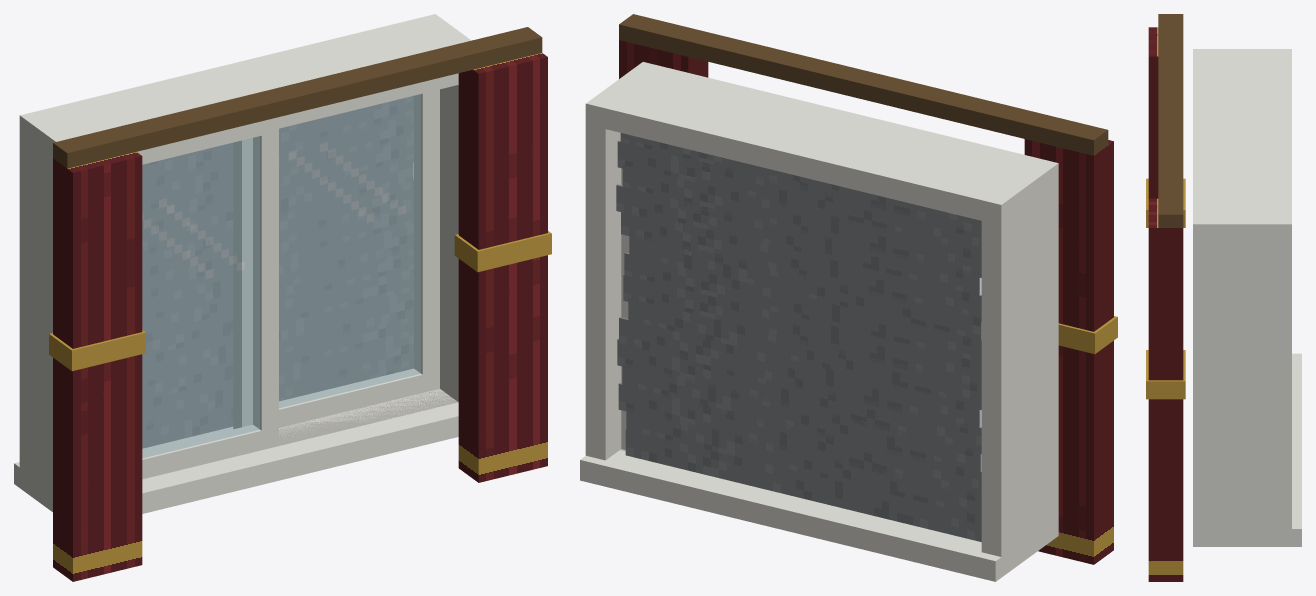
The model's file is t_window_domestic_taped.glb.
3 renders of one model, left to right at view 1: azimuth 30°, elevation 25°; view 2: azimuth 150°, elevation 25°; view 3: azimuth 270°, elevation 25°, orthographic. The views are drawn at different scales.
Parts seen in each view (by area): view 1: block_fixed-glass, block_curtain-1, block_curtain1, block_slider-glass, block_lintel, block_rod, block_sill, block_stile-1, block_slider-r, block_fixed-r, block_stile1, block_tape3 (+18 smaller); view 2: block_lintel, block_stile-1, block_curtain-1, block_sill, block_rod, block_stile1, block_tape5, block_tape0, block_tape2, block_tape12, block_tape10, block_tape7 (+12 smaller); view 3: block_stile1, block_lintel, block_curtain1, block_rod, block_sill, block_curtain-1, block_tie1, block_stile-1, block_tie-1.
Part boxes in pixels (left/top/right/bottom): block_fixed-glass: left=279, top=94, right=421, bottom=408; block_curtain-1: left=53, top=152, right=142, bottom=581; block_curtain1: left=458, top=53, right=547, bottom=482; block_slider-glass: left=142, top=136, right=260, bottom=458; block_lintel: left=19, top=14, right=471, bottom=161; block_rod: left=53, top=27, right=542, bottom=168; block_sill: left=14, top=389, right=458, bottom=513; block_stile-1: left=19, top=113, right=74, bottom=510; block_slider-r: left=253, top=129, right=278, bottom=448; block_fixed-r: left=414, top=89, right=439, bottom=391; block_stile1: left=417, top=14, right=470, bottom=401; block_tape3: left=142, top=290, right=413, bottom=382; block_lintel: left=585, top=62, right=1058, bottom=225; block_stile-1: left=981, top=160, right=1058, bottom=576; block_curtain-1: left=1024, top=139, right=1113, bottom=564; block_sill: left=580, top=450, right=1058, bottom=581; block_rod: left=619, top=14, right=1108, bottom=155; block_stile1: left=585, top=62, right=660, bottom=460; block_tape5: left=619, top=317, right=980, bottom=431; block_tape0: left=625, top=429, right=981, bottom=541; block_tape2: left=618, top=383, right=981, bottom=497; block_tape12: left=622, top=165, right=981, bottom=277; block_tape10: left=621, top=209, right=981, bottom=321; block_tape7: left=623, top=274, right=981, bottom=387; block_stile1: left=1193, top=216, right=1291, bottom=546; block_lintel: left=1193, top=49, right=1291, bottom=242; block_curtain1: left=1148, top=198, right=1183, bottom=581; block_rod: left=1158, top=14, right=1183, bottom=227; block_sill: left=1193, top=353, right=1301, bottom=546; block_curtain-1: left=1148, top=27, right=1158, bottom=198; block_tie1: left=1146, top=350, right=1185, bottom=399; block_stile-1: left=1193, top=49, right=1291, bottom=57; block_tie-1: left=1146, top=178, right=1185, bottom=227.
Size of the model in its own units: 0.97 by 0.82 by 0.315.
Materials: 2 (2 with a texture image).
